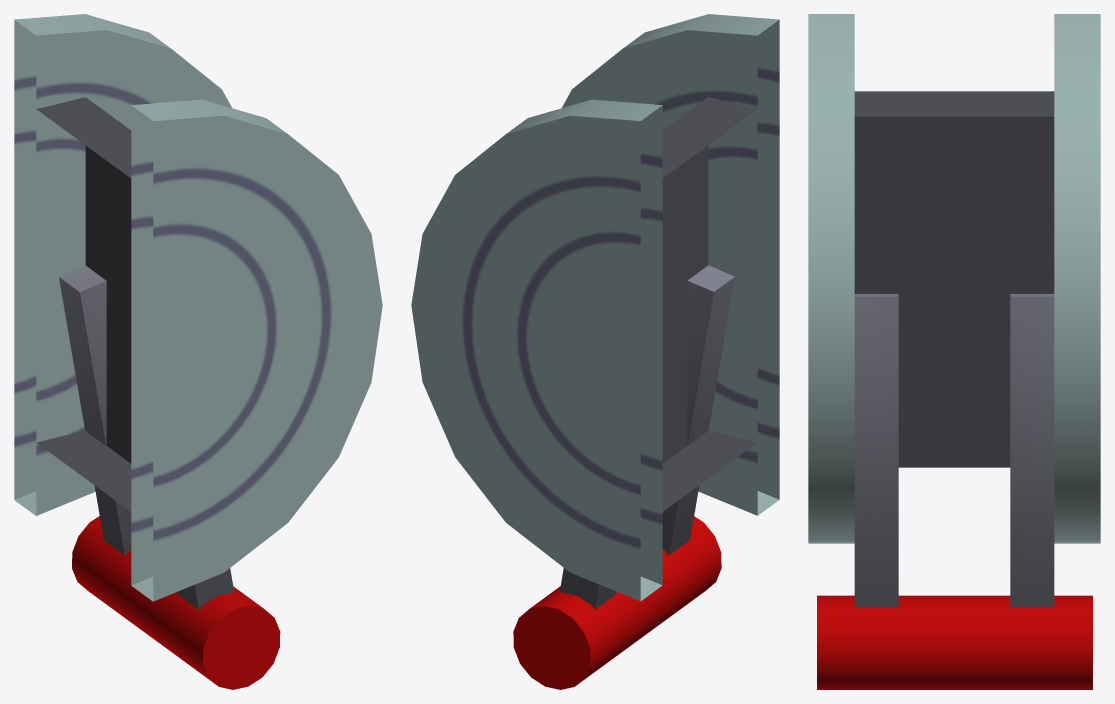
File: Lever.fbx
3 views of the same model, side by side, from view 1: azimuth 30°, elevation 25°; view 2: azimuth 150°, elevation 25°; view 3: azimuth 270°, elevation 25° (orthographic). The views are drawn at different scales.
Parts seen in each view (by area): view 1: Lever_base, Lever; view 2: Lever_base, Lever; view 3: Lever_base, Lever.
Boxes of the visible parts, <box> form: Lever_base: <box>14,14,382,601</box>; Lever: <box>59,265,280,689</box>; Lever_base: <box>411,14,779,601</box>; Lever: <box>513,265,734,689</box>; Lever_base: <box>808,14,1100,543</box>; Lever: <box>817,294,1092,689</box>.
Size of the model in its own units: 0.4431 by 1.09 by 0.4644.
